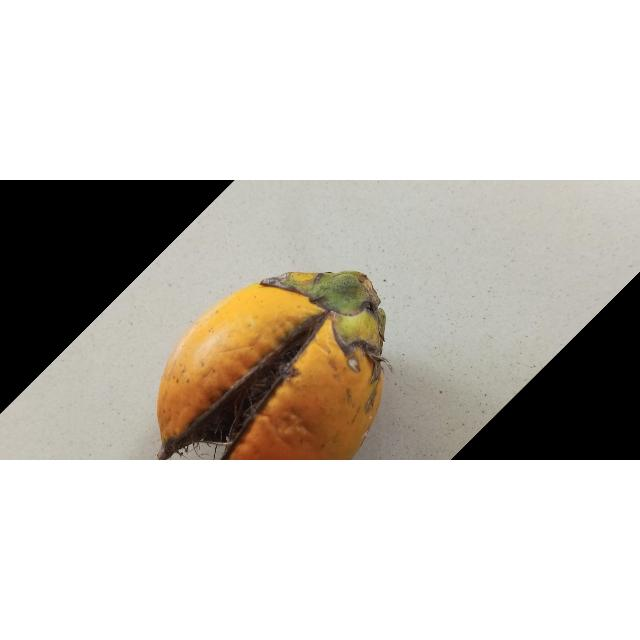damaged: (157, 271, 386, 461)
